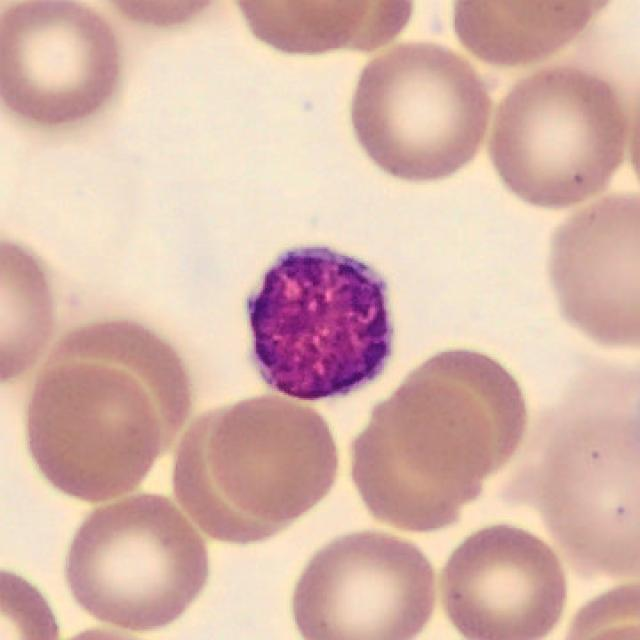Linfocito: (249, 249, 389, 398)
